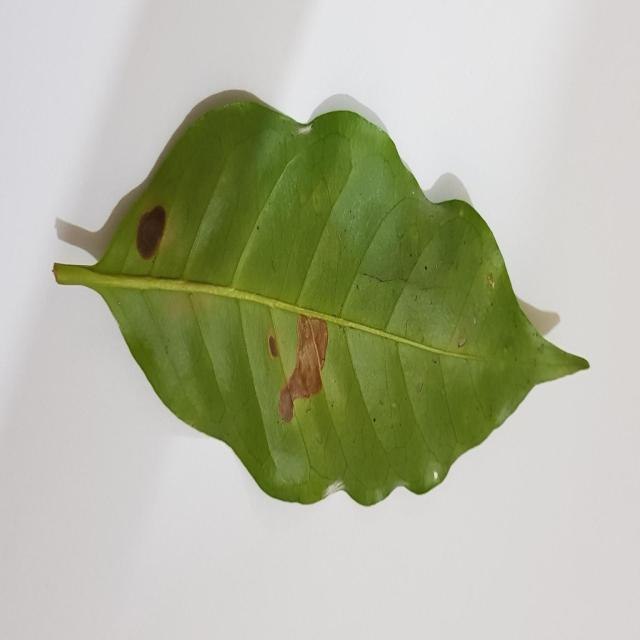miner: (278, 311, 328, 423), (133, 189, 166, 260), (266, 332, 278, 358)
